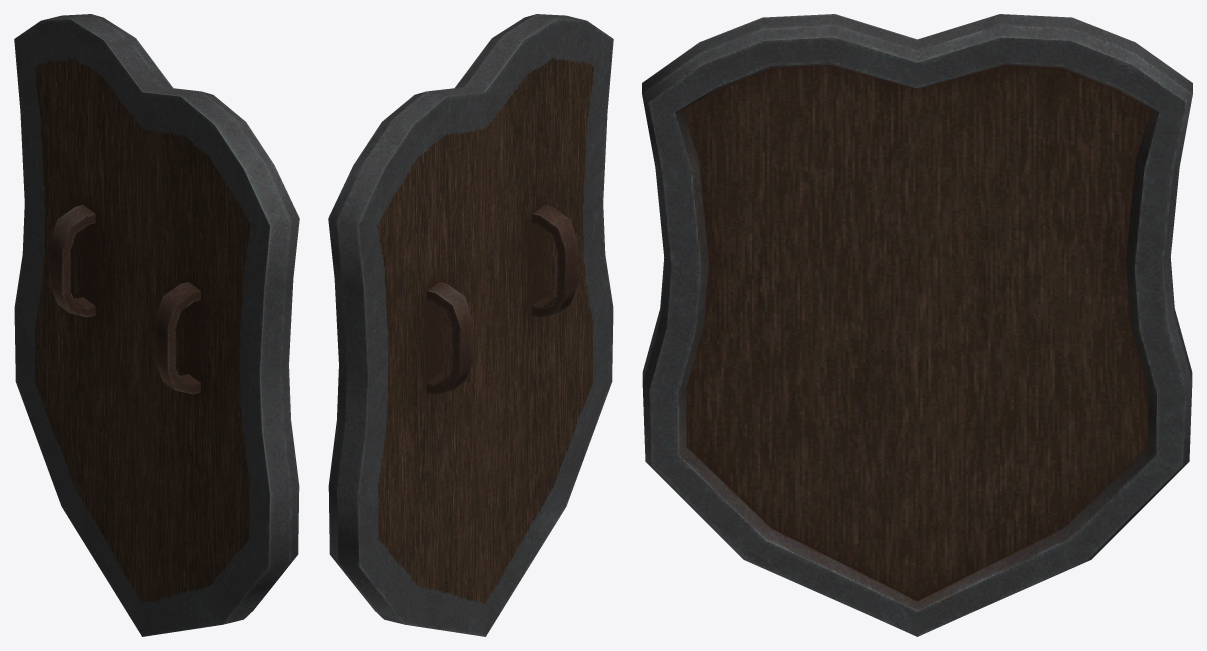
The model's file is shield.fbx.
3 renders of one model, left to right at view 1: azimuth 30°, elevation 25°; view 2: azimuth 150°, elevation 25°; view 3: azimuth 270°, elevation 25°, orthographic. The views are drawn at different scales.
Visible parts, largest first — view 1: Shield; view 2: Shield; view 3: Shield.
Part boxes in pixels (<box>): Shield: <box>14,14,299,636</box>; Shield: <box>328,14,613,636</box>; Shield: <box>642,14,1192,636</box>.
Bounding box in the file's own units: 18.81 × 155 × 127.
